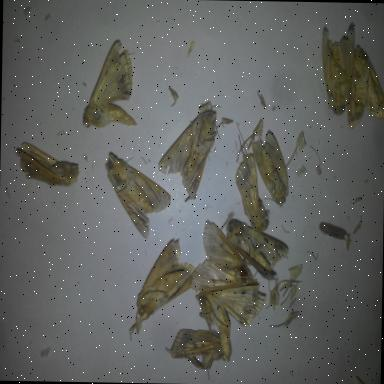abw: (126, 234, 200, 344), (102, 148, 174, 242), (192, 281, 270, 365), (156, 103, 221, 202), (79, 37, 142, 134), (185, 216, 259, 296), (222, 214, 292, 286), (318, 17, 360, 119), (162, 326, 232, 382), (234, 134, 272, 237), (248, 127, 294, 212), (345, 40, 384, 136), (13, 140, 81, 194)
